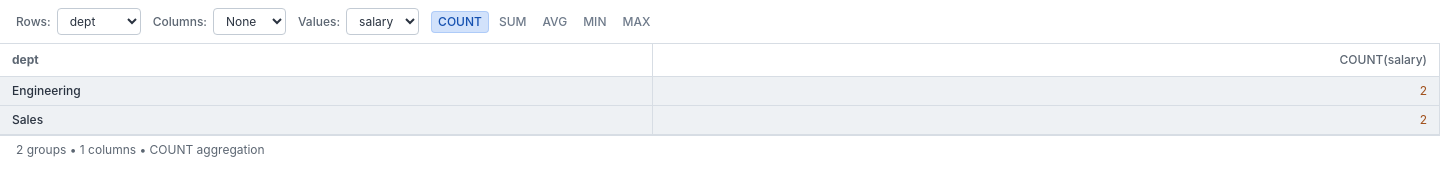
Test: PivotTable › clicking AVG button changes aggregation
Click the button "AVG".
click(555, 22)  # box [536,12,573,32]
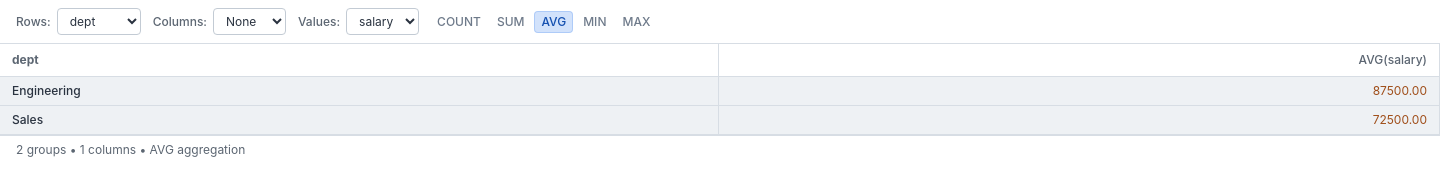
Check: the text "AVG aggregation" is shown, box [16,142,245,157]
